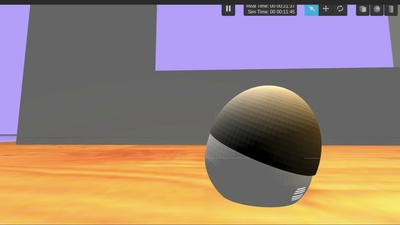mira_robot: (205, 85, 322, 207)
